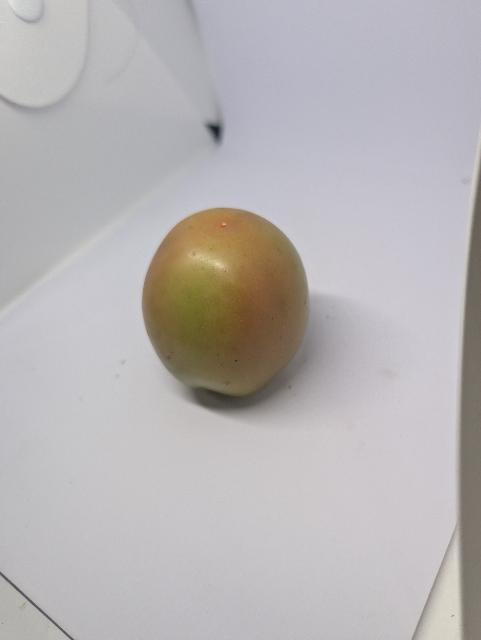breaker: (143, 208, 309, 396)
